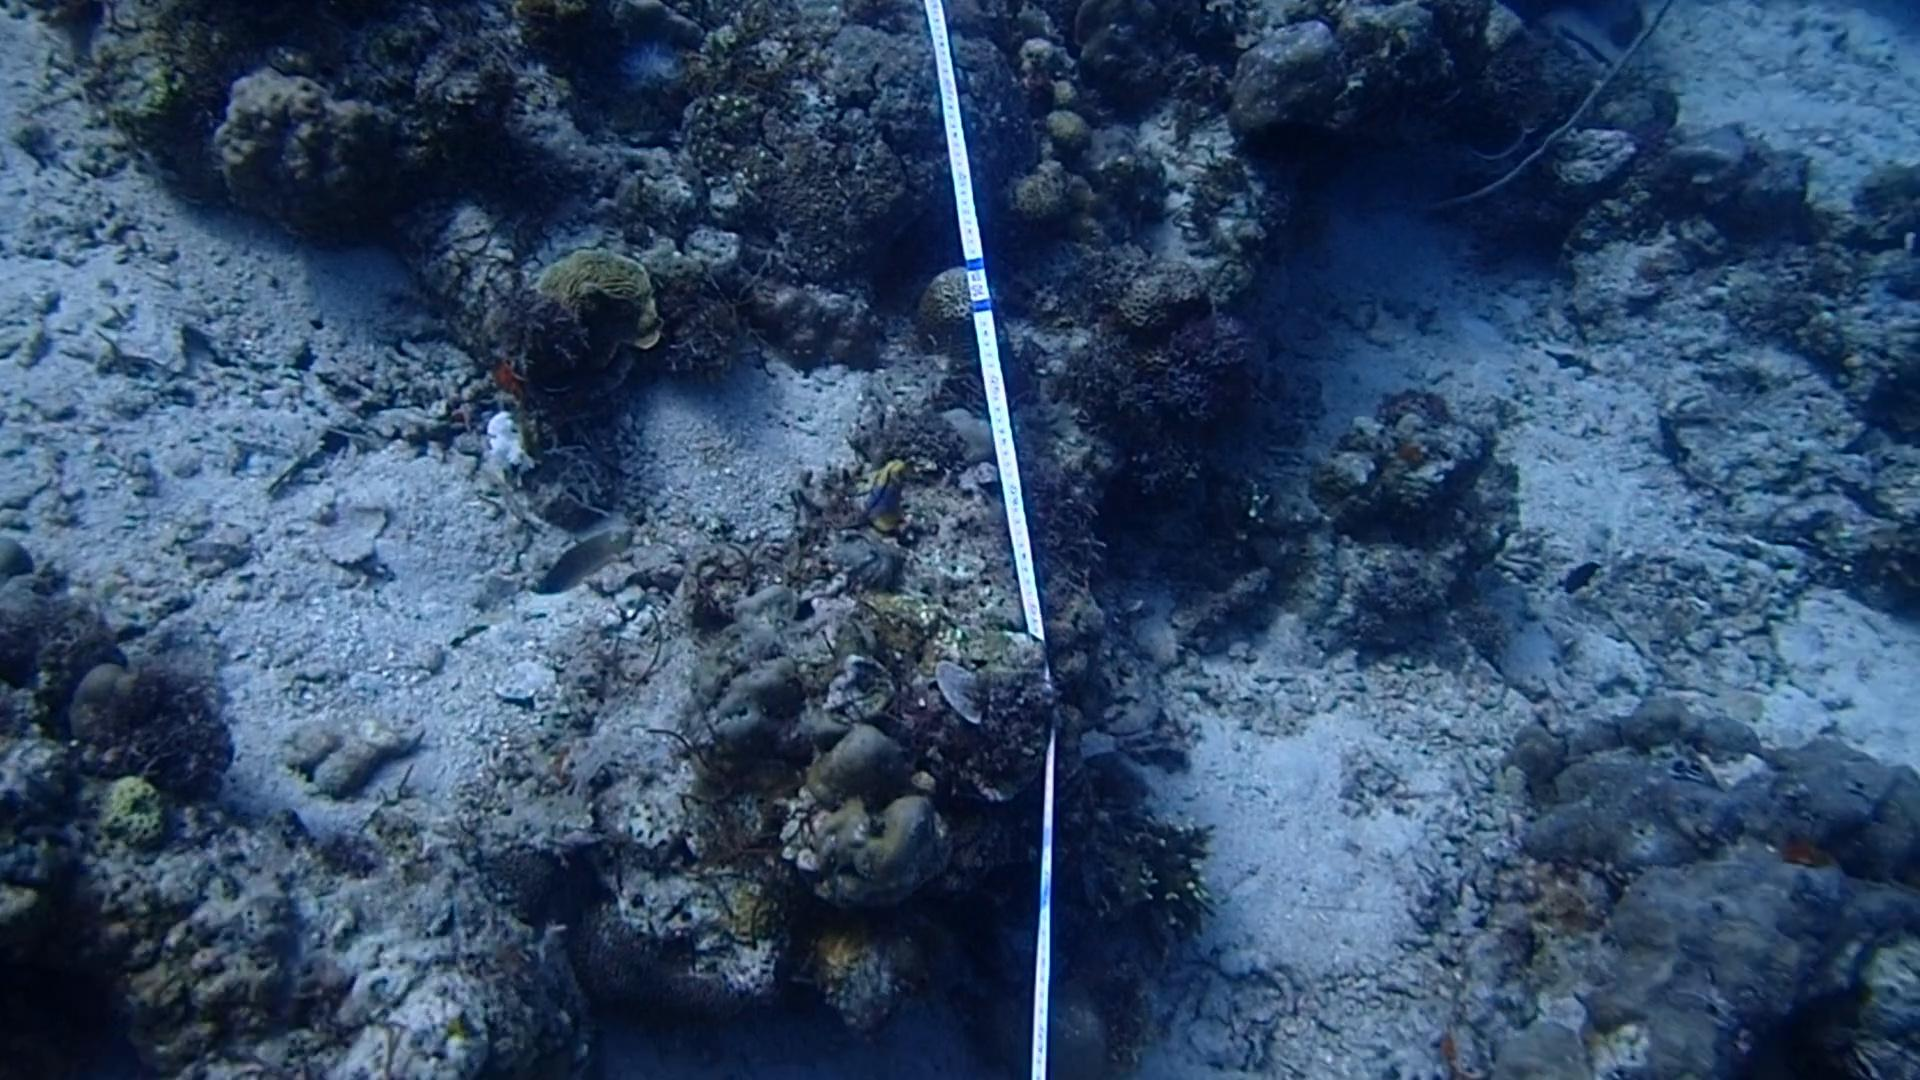Dark Fish: (1244, 108, 1337, 174), (1563, 555, 1602, 597)
Light Fish: (520, 527, 634, 603)
